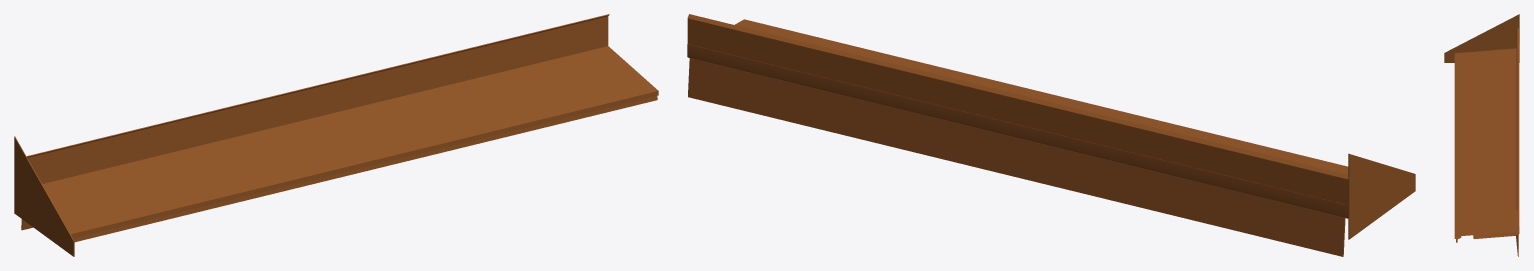
File: wandmetall_start.FBX
3 renders of one model, left to right at view 1: azimuth 30°, elevation 25°; view 2: azimuth 150°, elevation 25°; view 3: azimuth 270°, elevation 25°, orthographic. The views are drawn at different scales.
Visible parts, largest first — view 1: wandmetall_start; view 2: wandmetall_start; view 3: wandmetall_start.
Part boxes in pixels (x1,y1,x2,y2): wandmetall_start: (14,14,658,256); wandmetall_start: (687,14,1415,256); wandmetall_start: (1444,14,1519,256).
Bounding box in the file's own units: 8.06 × 1.23 × 1.4.
